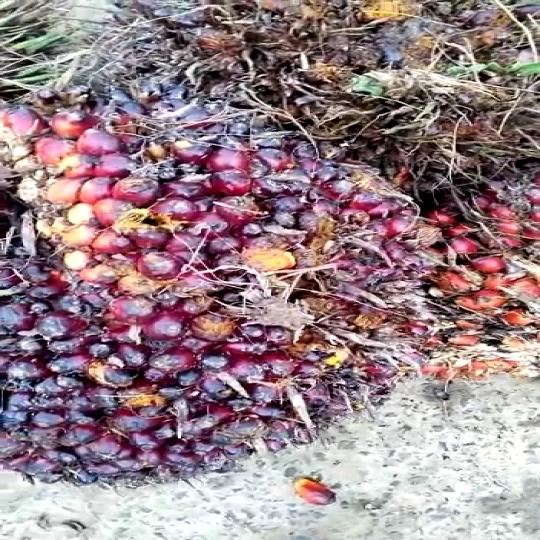masak: (0, 96, 456, 492)
